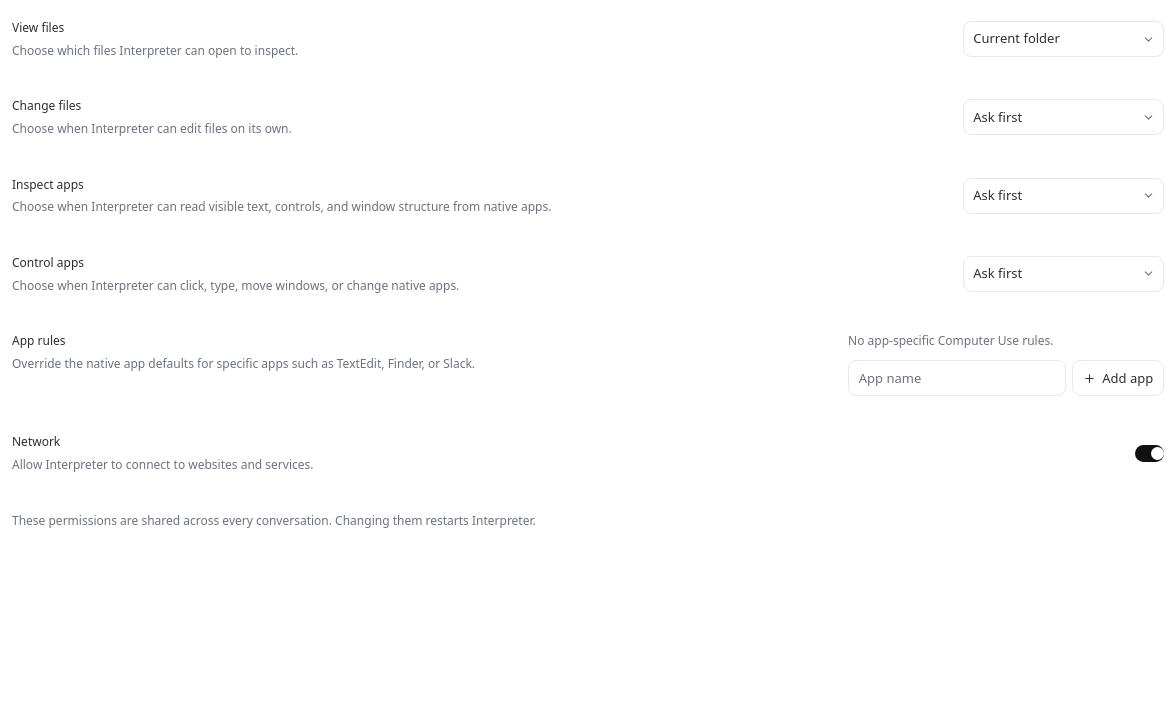
Test: NativeToolsSection › adds a named Computer Use app rule
This screenshot has width=1176, height=720.
In the field named "Native app name": (957, 378) [848,360,1066,396], type "TextEdit"
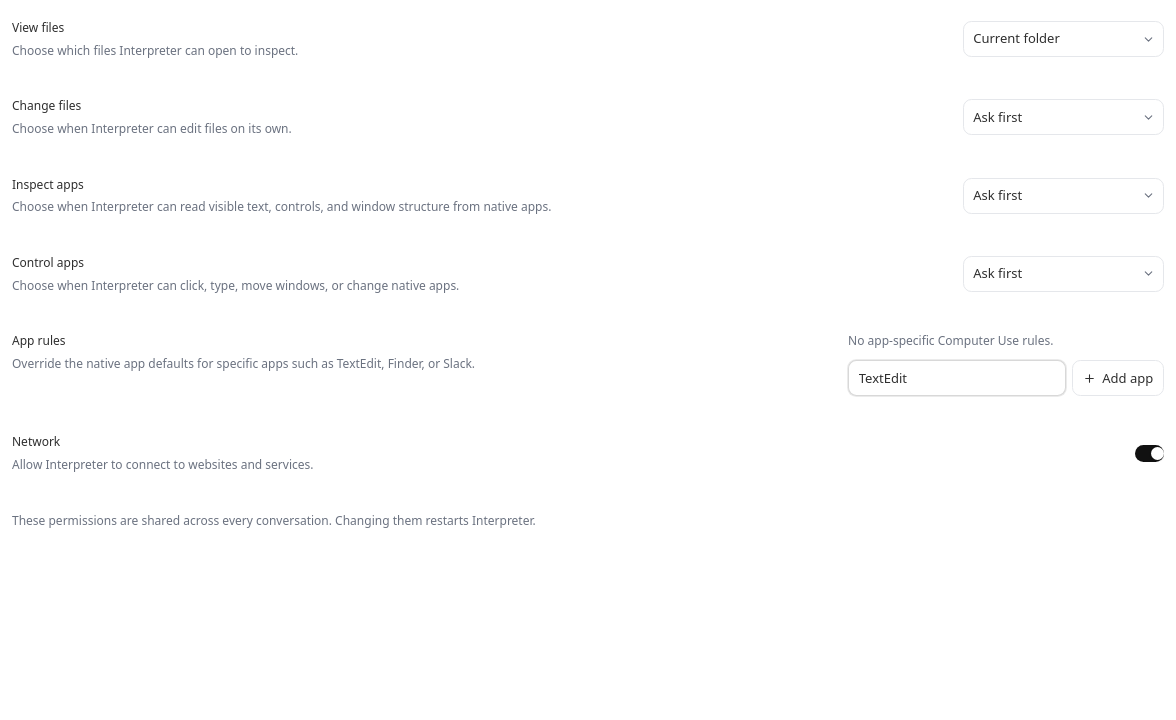
Click the button "Add app": (1118, 378) [1072,360,1164,396]
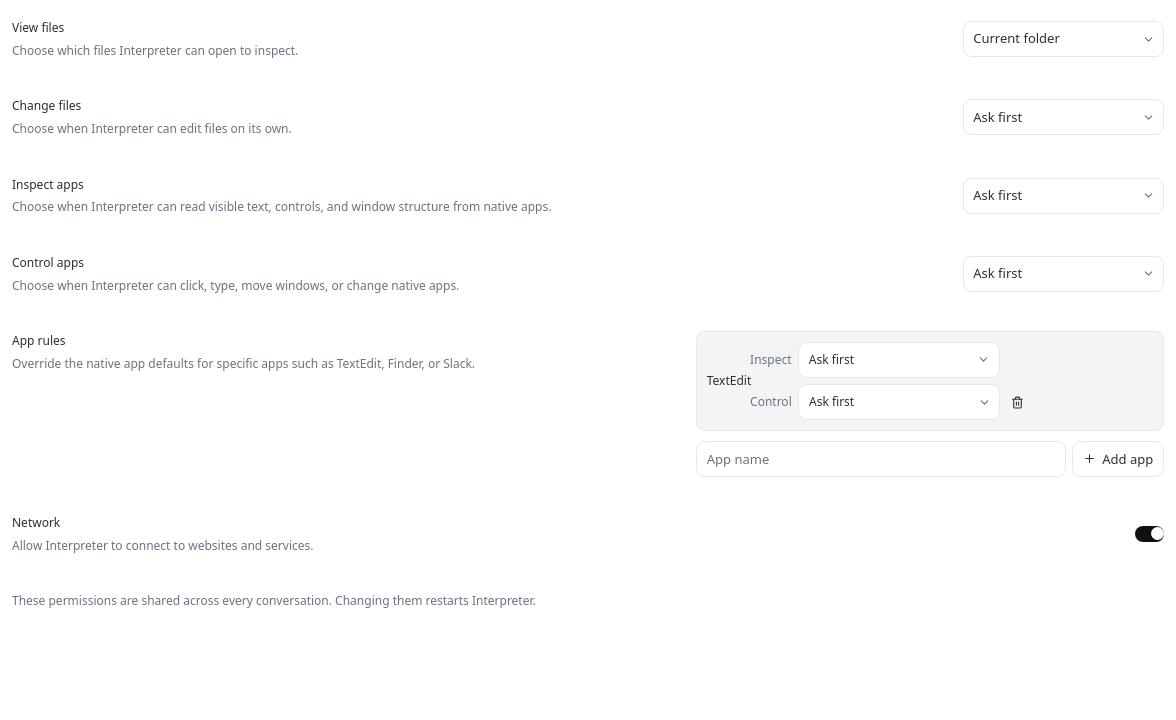
Now the text "TextEdit" is shown, box [707,372,740,390]
